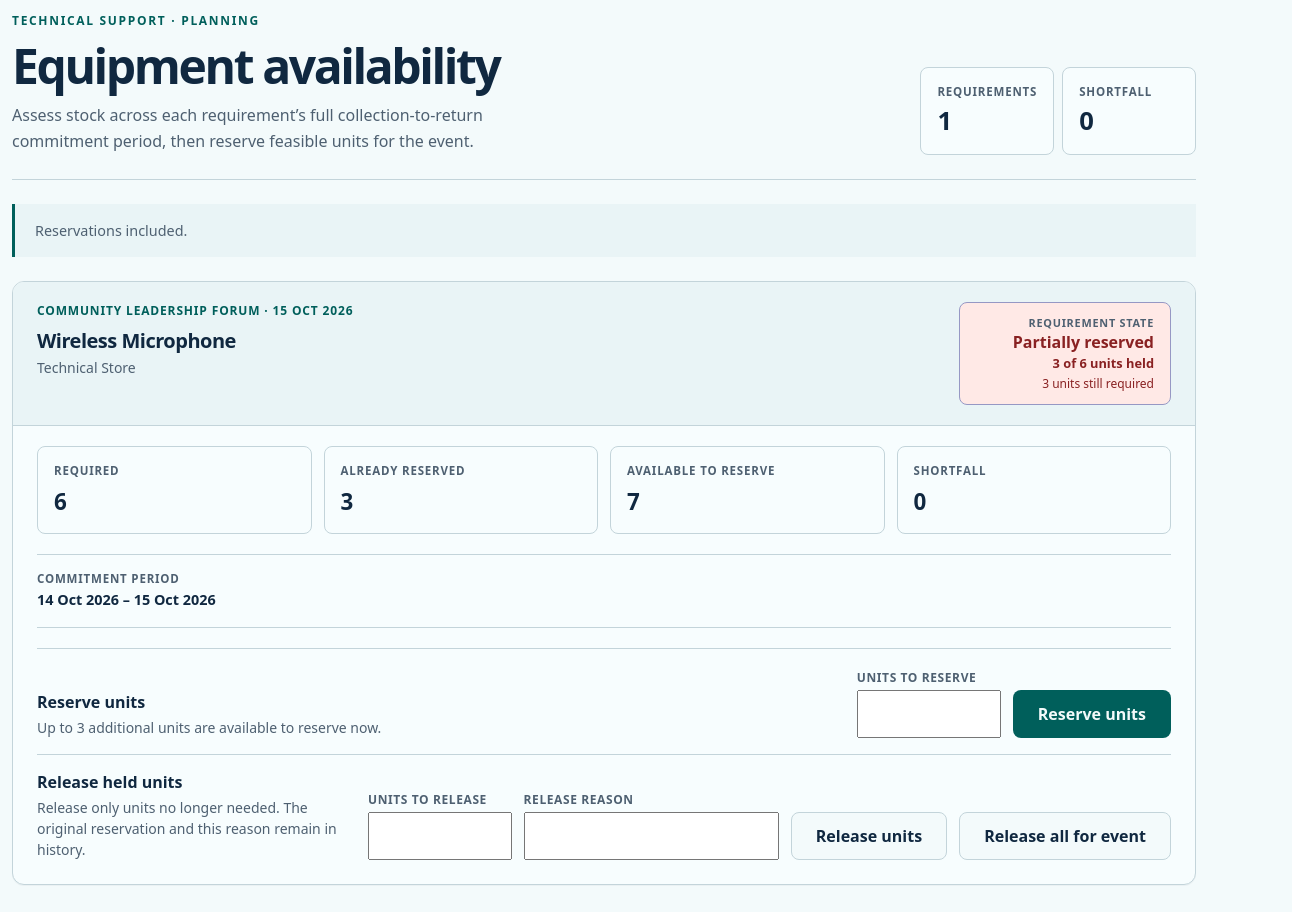
[TC-SPL-98-07] submits a partial release and reloads the remaining reservation state
Type "2" into the number field labelled "Units to release" at (440, 836), box [368, 812, 512, 860]
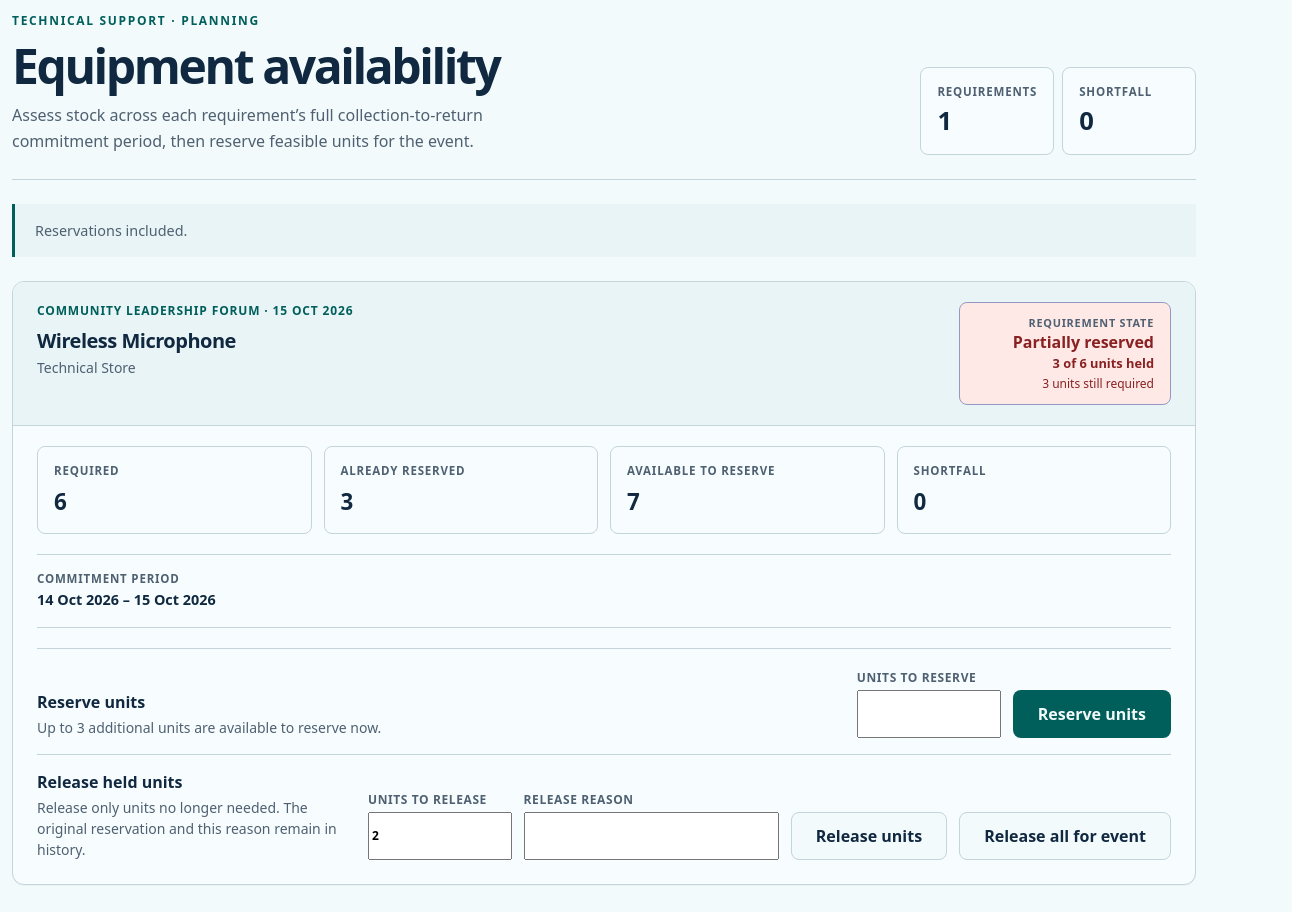
Type "Programme format changed" into the field labelled "Release reason" at (651, 836), box [524, 812, 779, 860]
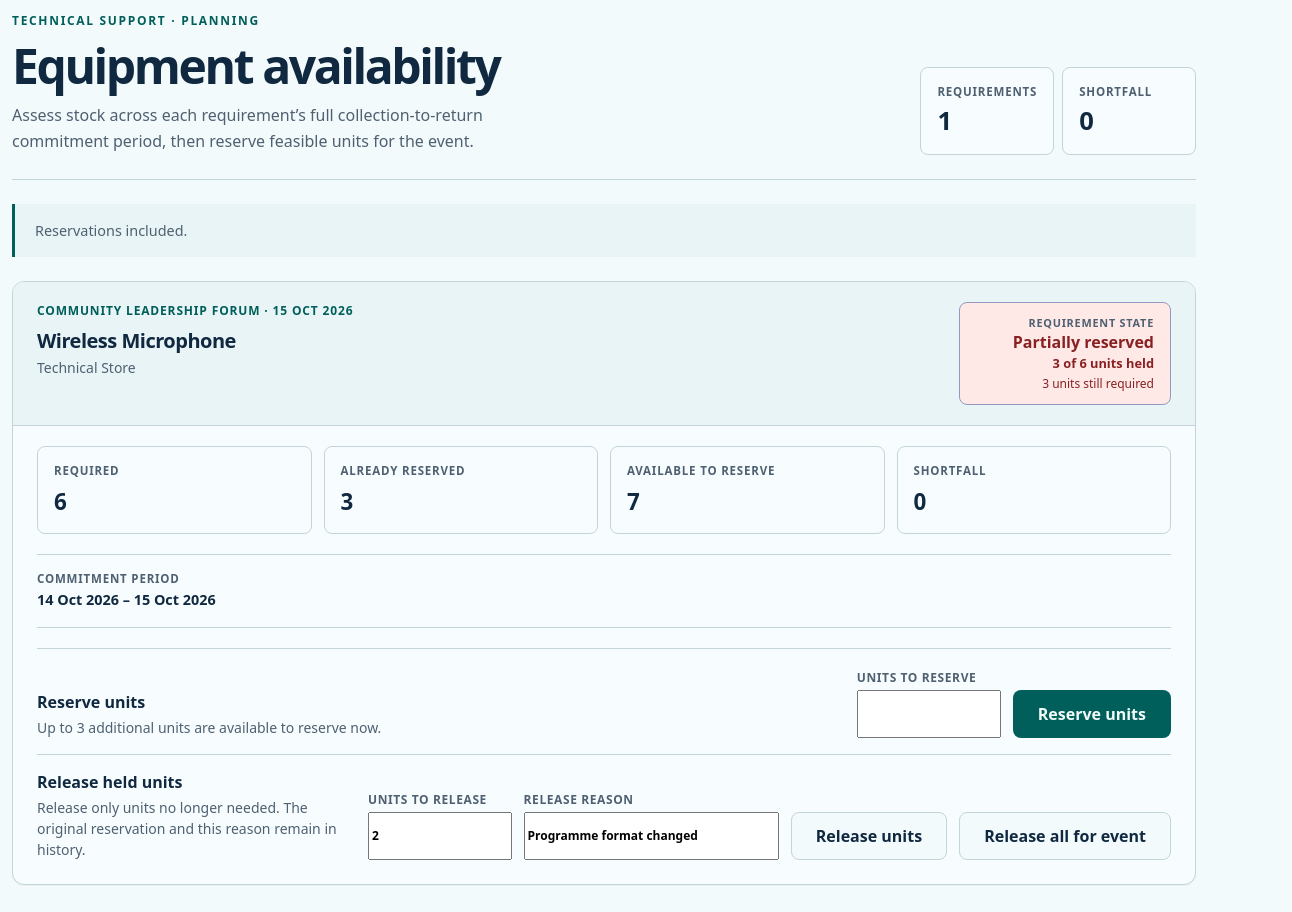
Click the button "Release units" at (869, 836), box [791, 812, 947, 860]
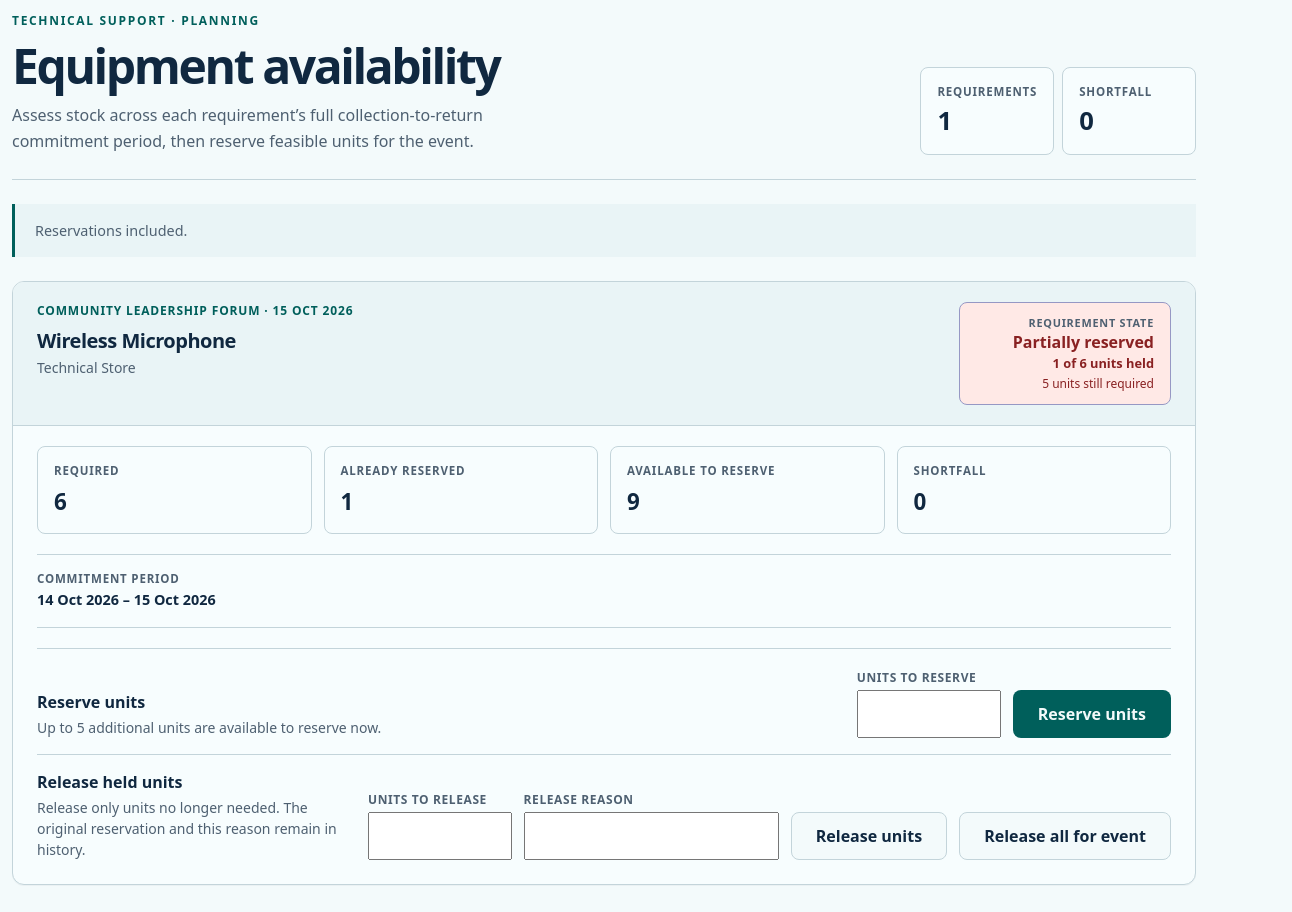
Check: the text "1 of 6 units held" is shown, box [1053, 354, 1154, 372]
Check: the text "9" is shown, box [627, 486, 639, 517]
